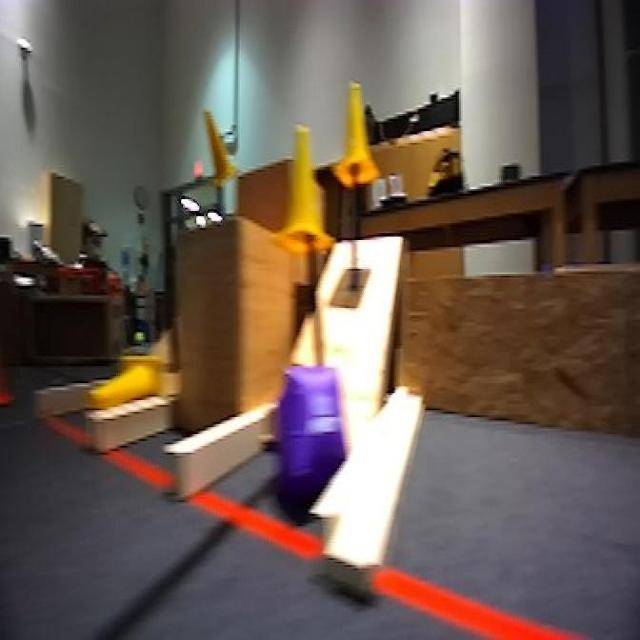frc_cone: (278, 119, 332, 252), (332, 82, 377, 189), (88, 356, 164, 417), (190, 94, 232, 190)
frc_cube: (277, 362, 353, 500)
